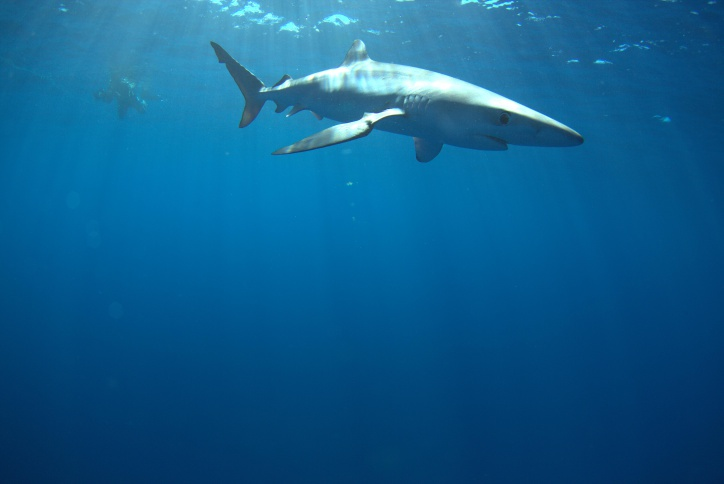Azul: (204, 31, 597, 209)
